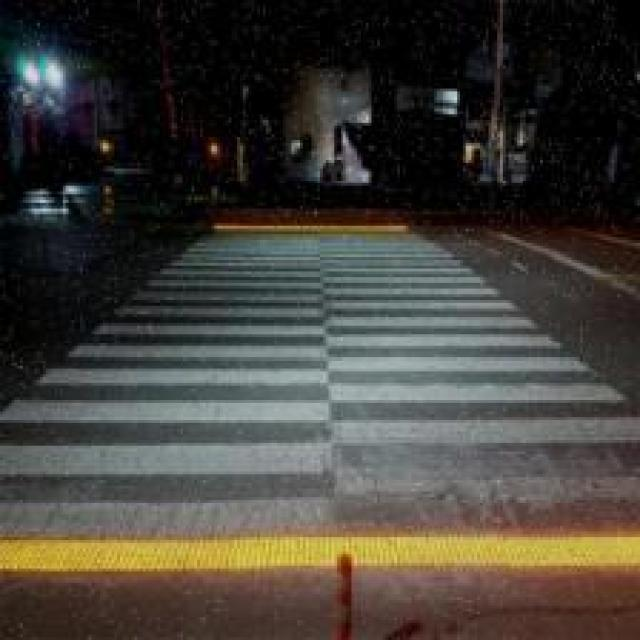crosswalk: (0, 226, 640, 538)
